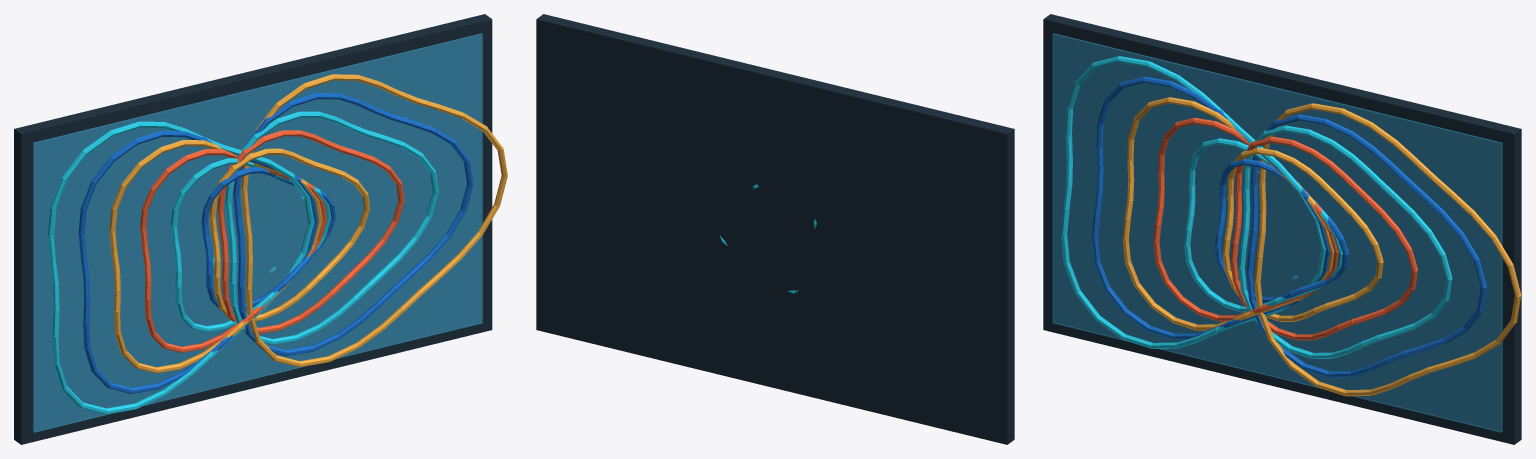
The model's file is 37_L82_ThreeDimensionalRadiationPatternHologram.fbx.
3 views of the same model, side by side, from view 1: azimuth 30°, elevation 25°; view 2: azimuth 150°, elevation 25°; view 3: azimuth 330°, elevation 25° (orthographic).
Parts seen in each view (by area): view 1: ThreeDimensionalRadiationPatternHologram; view 2: ThreeDimensionalRadiationPatternHologram; view 3: ThreeDimensionalRadiationPatternHologram.
Part boxes in pixels (left/top/right/bottom): ThreeDimensionalRadiationPatternHologram: left=14, top=14, right=507, bottom=444; ThreeDimensionalRadiationPatternHologram: left=536, top=14, right=1014, bottom=444; ThreeDimensionalRadiationPatternHologram: left=1043, top=14, right=1521, bottom=444.
Size of the model in its own units: 349 by 215 by 20.
